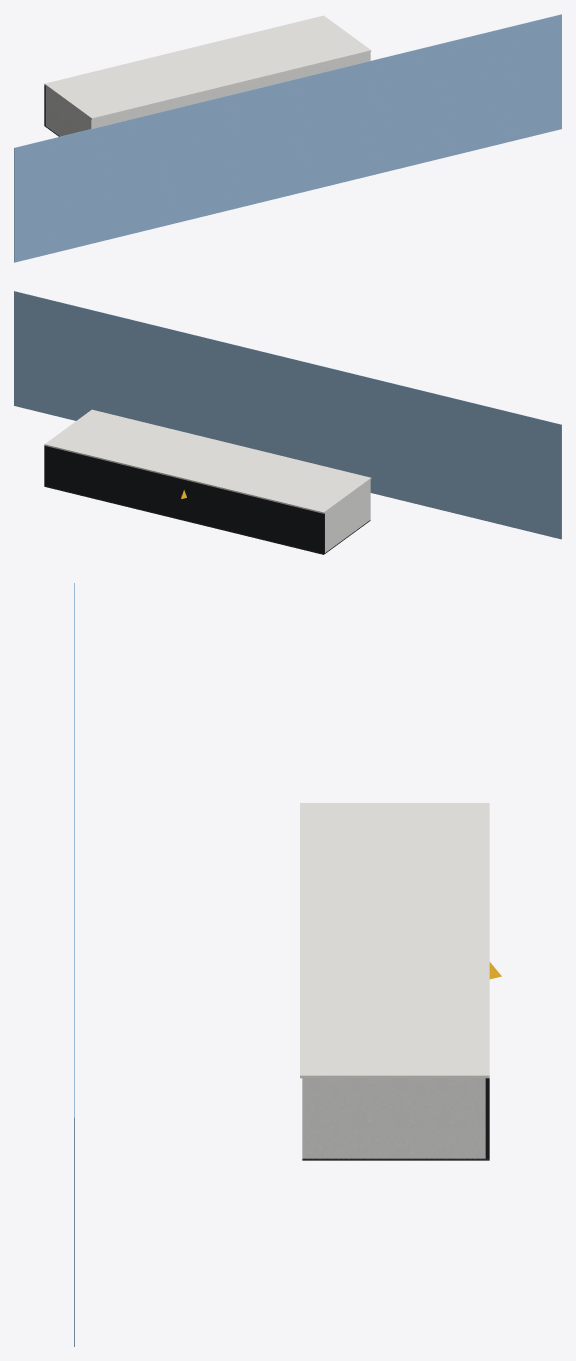
Rendered from interior.glb.
3 views of the same model, one above another, from view 1: azimuth 30°, elevation 25°; view 2: azimuth 150°, elevation 25°; view 3: azimuth 270°, elevation 25° (orthographic). The views are drawn at different scales.
Visible parts, largest first — view 1: Sky_Front, Ceiling, Store_IN_WallMain; view 2: Sky_Front, Ceiling, Store_IN_SummitBlack, Store_IN_WallMain, House_Floor_Summit; view 3: Ceiling, Store_IN_WallMain.
Boxes of the visible parts, x1,y1,x2,y2 form: Sky_Front: (14, 14, 561, 262); Ceiling: (44, 15, 371, 119); Store_IN_WallMain: (45, 52, 370, 136); Sky_Front: (14, 291, 561, 539); Ceiling: (44, 409, 371, 513); Store_IN_SummitBlack: (44, 445, 324, 553); Store_IN_WallMain: (325, 480, 370, 552); House_Floor_Summit: (44, 486, 370, 554); Ceiling: (300, 803, 489, 1078); Store_IN_WallMain: (302, 1078, 485, 1158).
Size of the model in its own units: 60 by 12 by 20.31.
26 materials, 22 textured.
